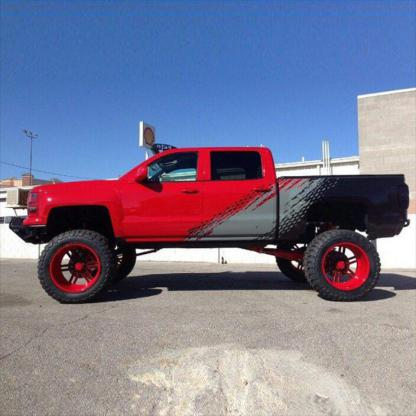Truck: (9, 147, 410, 304)
